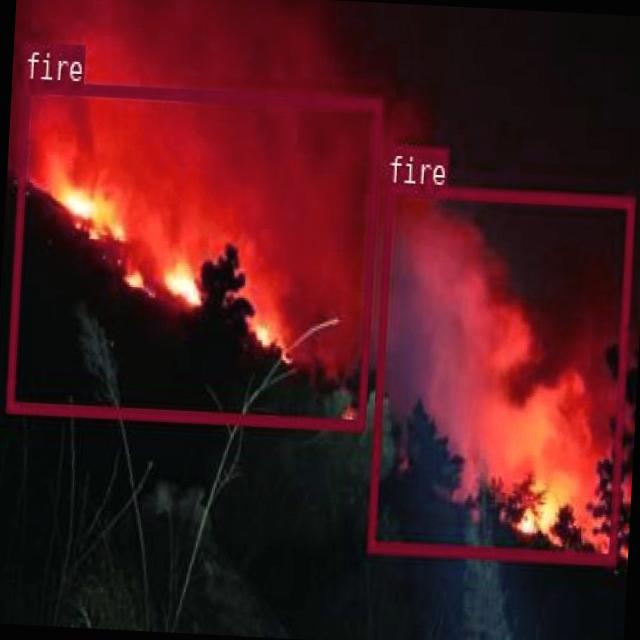fire: (6, 80, 380, 430), (366, 184, 633, 564)
